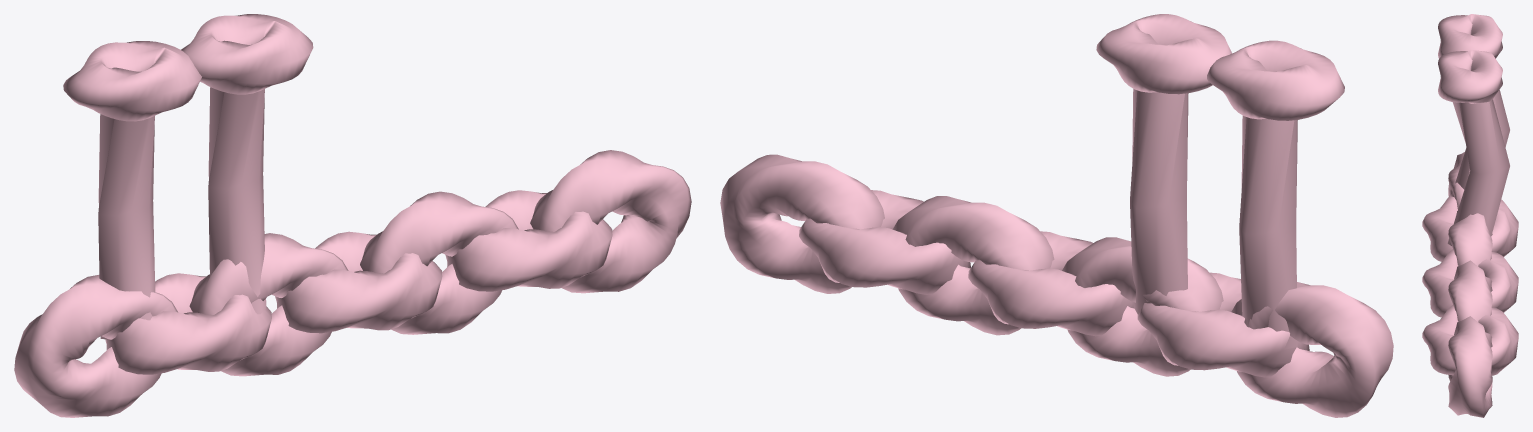
File: row_sc.glb
The picture shows the model from 3 angles, left to right: view 1: azimuth 30°, elevation 25°; view 2: azimuth 150°, elevation 25°; view 3: azimuth 270°, elevation 25°; orthographic projection. The views are drawn at different scales.
Visible parts, largest first — view 1: Row; view 2: Row; view 3: Row.
Boxes of the visible parts, x1,y1,x2,y2 form: Row: (14, 14, 691, 417); Row: (720, 14, 1393, 417); Row: (1422, 14, 1518, 417).
Bounding box in the file's own units: 3.76 × 1.88 × 0.7025.
